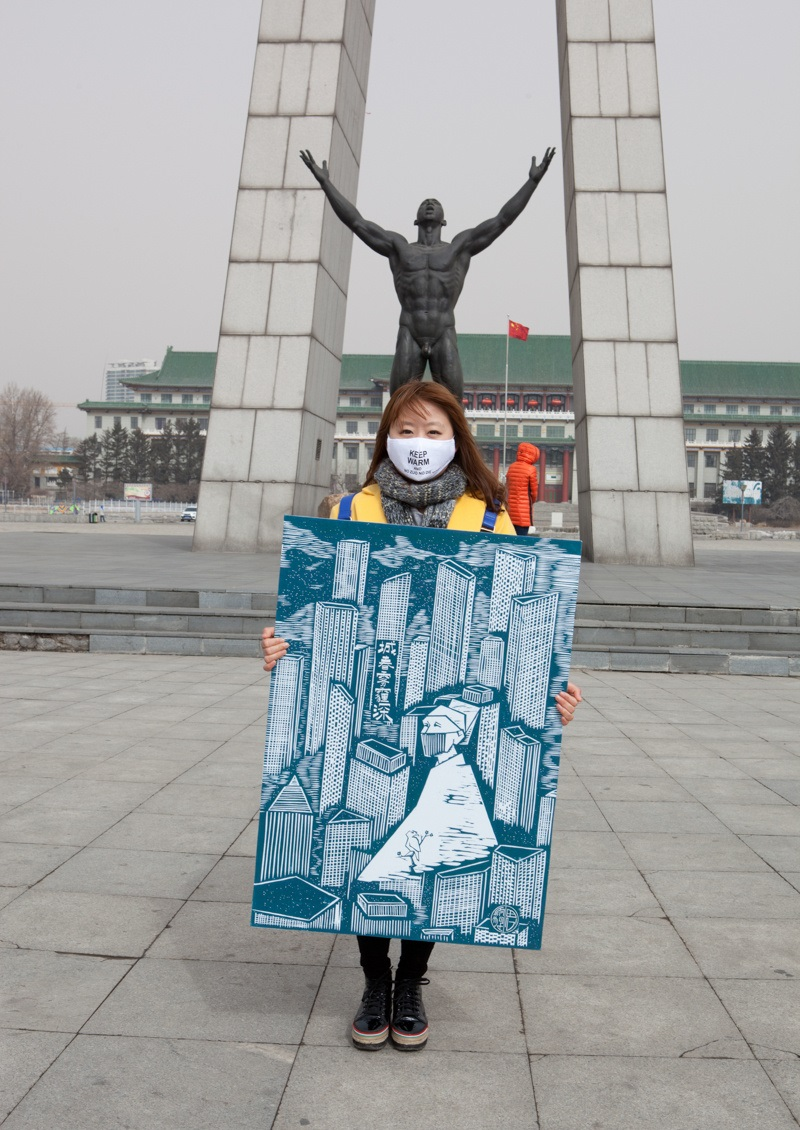face_mask: (389, 401, 451, 490)
